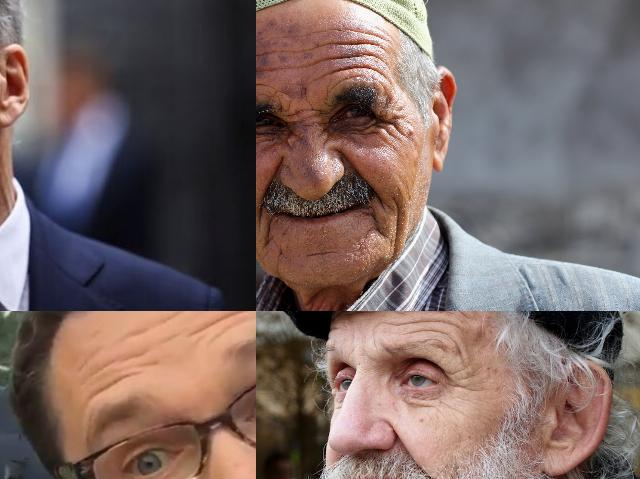chin: (300, 244, 342, 264)
crows_feet: (373, 112, 399, 148), (444, 367, 468, 401)
forehead: (78, 358, 130, 390), (340, 35, 380, 74), (186, 311, 246, 335), (298, 44, 329, 78), (413, 311, 451, 337), (118, 320, 152, 342), (345, 311, 407, 322), (256, 46, 274, 77), (138, 356, 164, 370), (256, 75, 275, 91)
frown_line: (286, 106, 322, 128), (368, 330, 382, 352)
gummy_smile: (343, 150, 373, 184), (392, 429, 418, 464), (267, 157, 285, 195)
masseter: (389, 201, 405, 240)
sad_smile: (367, 208, 383, 240), (262, 215, 276, 247)
